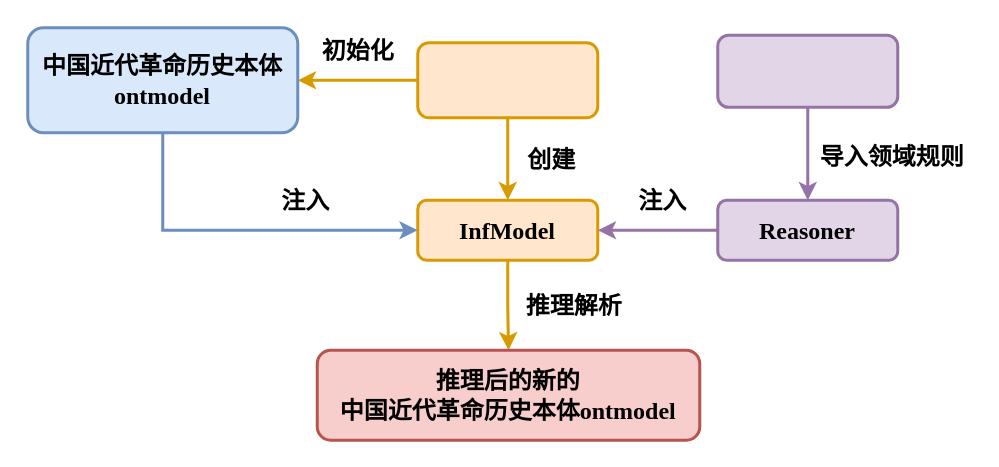
Some shapes in this 999 by 467 pixel diagram are drawn without their labels. Here are the shapes that lost their labels. From the top down, the box of each, then its label:
(416, 40, 598, 118): ModelFactory
(716, 33, 898, 108): 注册推理机
